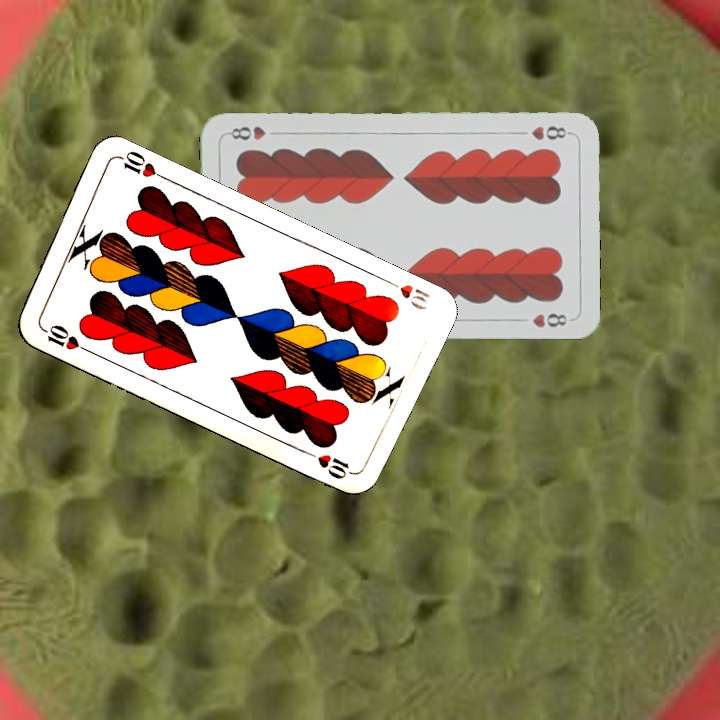H10: (379, 274, 433, 313), (36, 320, 92, 355)
H8: (527, 122, 573, 143)
